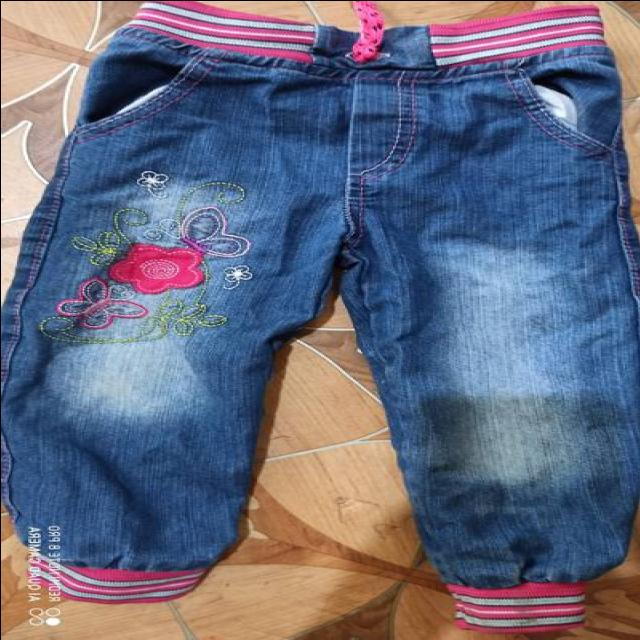non-organik: (18, 4, 630, 632)
